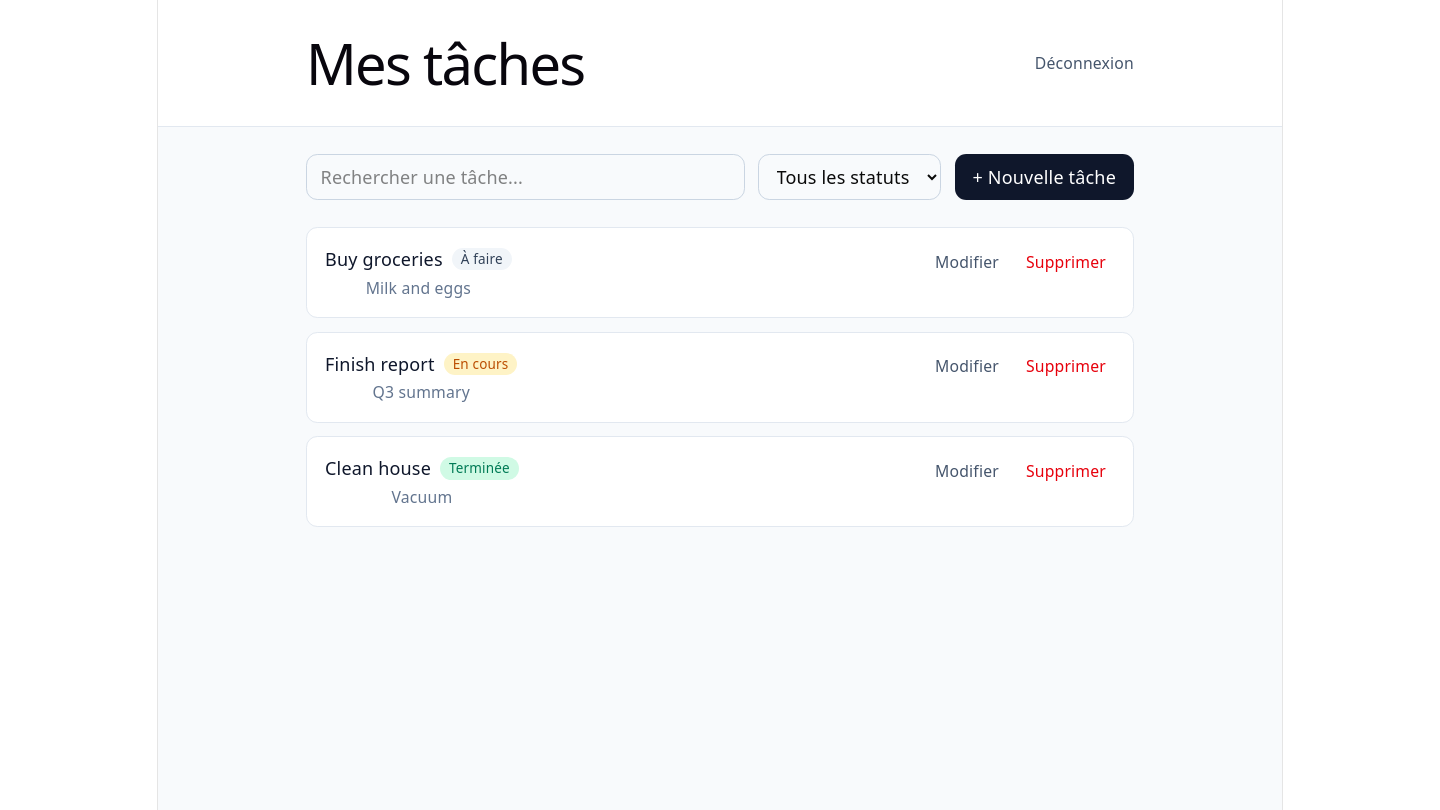
DashboardPage › deletes a task after confirmation
Expected: the heading "Buy groceries" is shown, [325, 246, 443, 272]
Click the button "Supprimer" in the row of "À faire" at (1066, 262), box [1017, 246, 1115, 278]
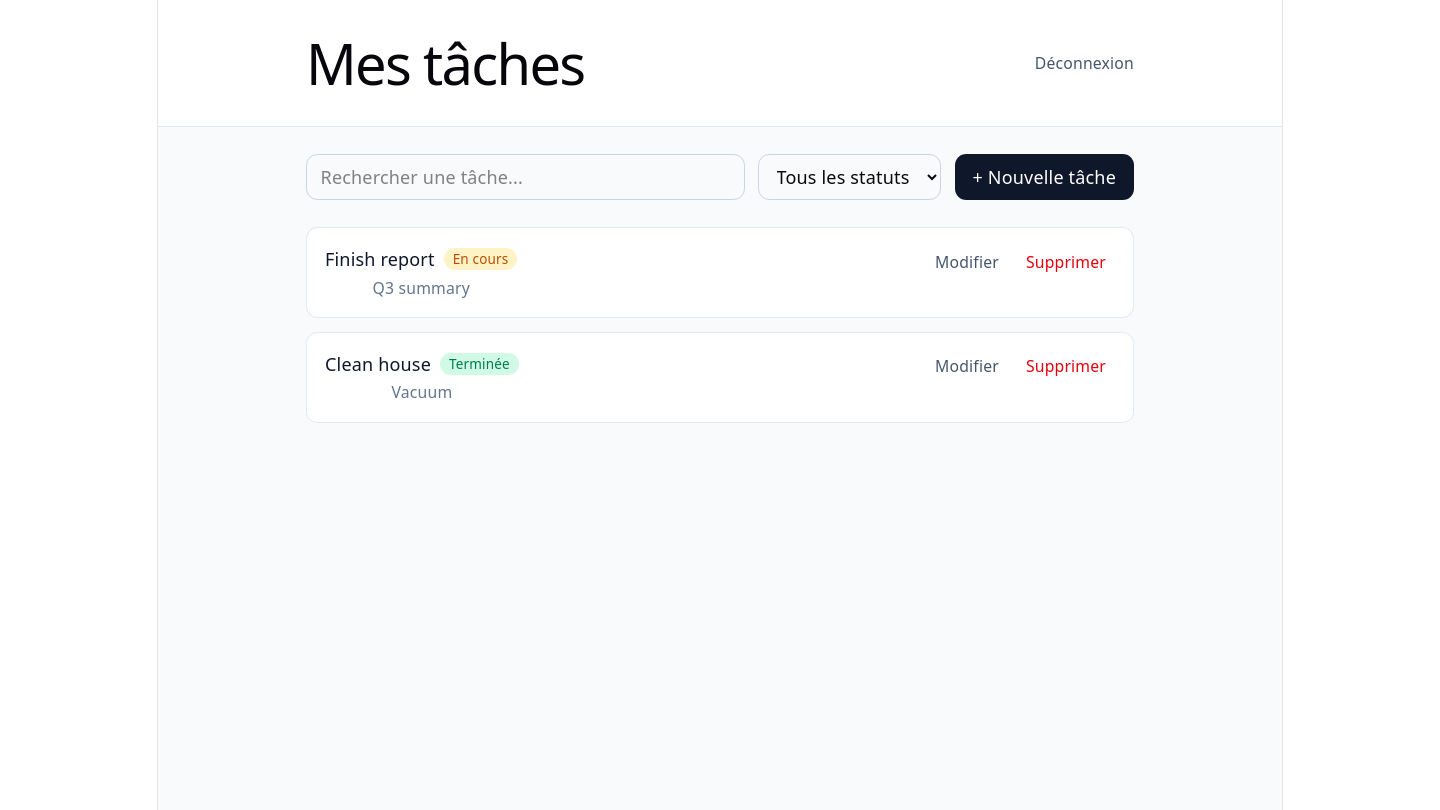
Expected: the heading "Buy groceries" is gone
